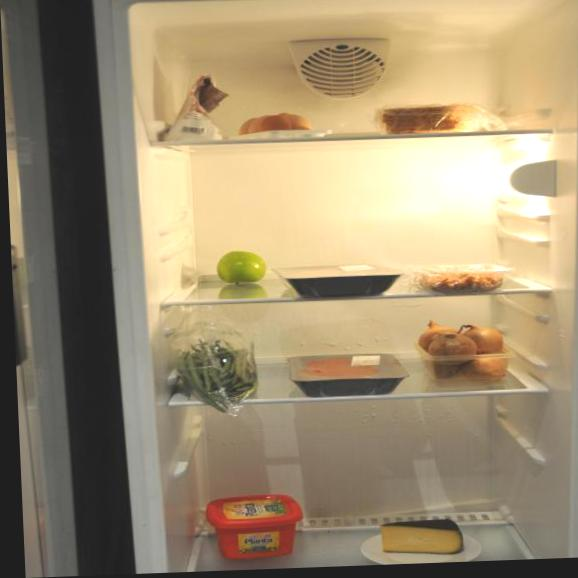apple: (215, 235, 277, 296)
bread: (372, 84, 497, 143)
cheese: (367, 513, 496, 565)
eggs: (236, 102, 326, 146)
green beans: (170, 320, 264, 414)
meat: (274, 251, 394, 305), (285, 352, 403, 396)
onion: (411, 314, 517, 385)
